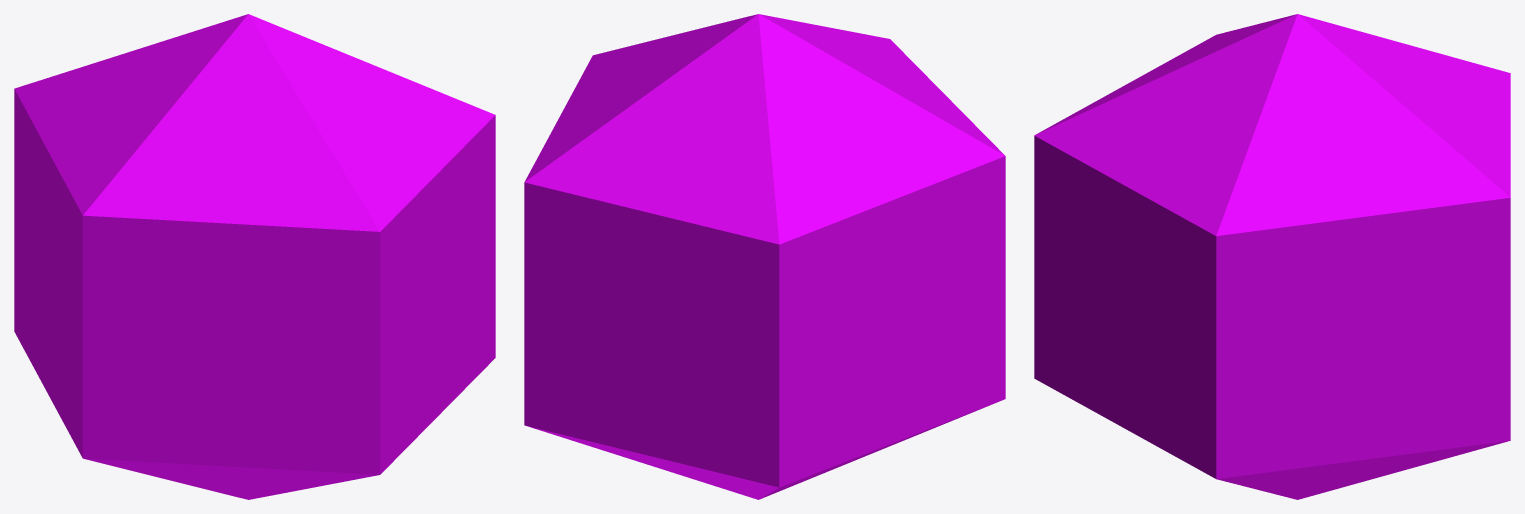
Rendered from energy-orb-projectile.gltf.
3 views of the same model, side by side, from view 1: azimuth 30°, elevation 25°; view 2: azimuth 150°, elevation 25°; view 3: azimuth 270°, elevation 25° (orthographic).
Visible parts, largest first — view 1: sphere; view 2: sphere; view 3: sphere.
Boxes of the visible parts, x1=… form: sphere: x1=14, y1=14, x2=495, y2=499; sphere: x1=524, y1=14, x2=1005, y2=499; sphere: x1=1034, y1=14, x2=1510, y2=499.
Size of the model in its own units: 0.5 by 0.5625 by 0.5.
Materials: 3 (3 with a texture image).
